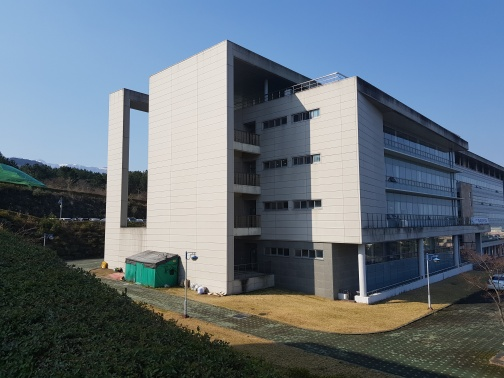Engineering College Building 4: (107, 45, 500, 271), (106, 32, 330, 295), (262, 84, 474, 297), (149, 61, 236, 268)
